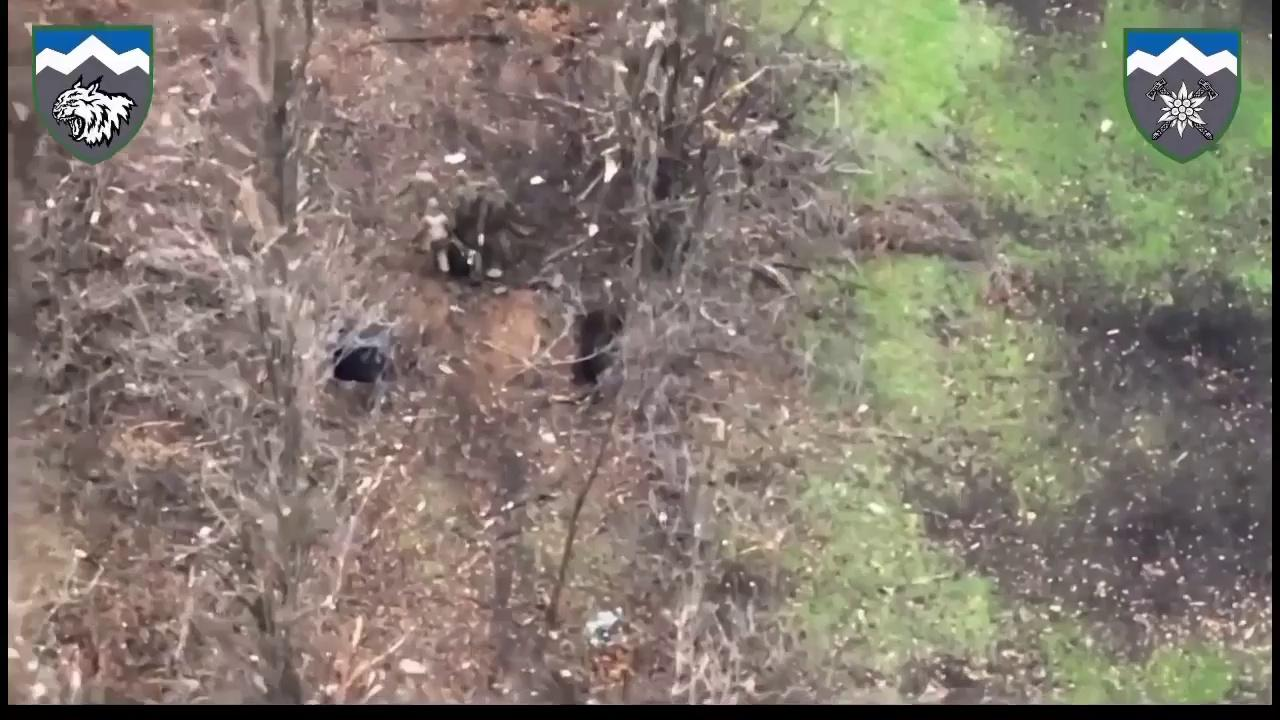person: (478, 175, 524, 282), (413, 200, 472, 276), (448, 172, 485, 246), (392, 157, 449, 203)
